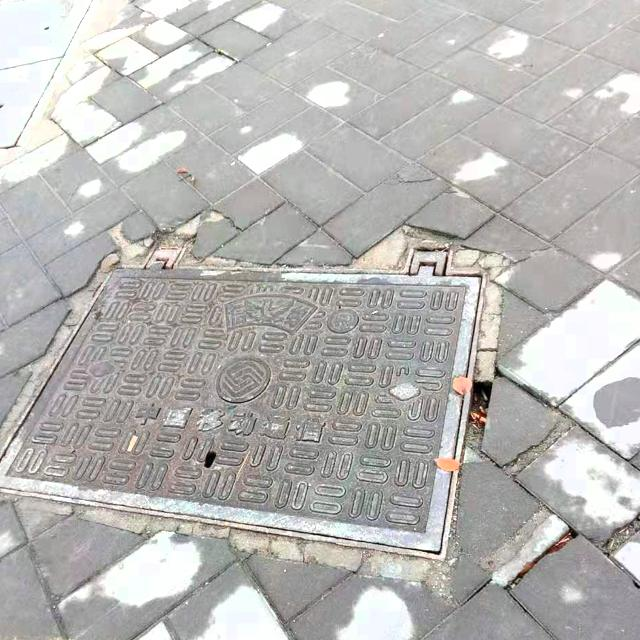good: (0, 252, 484, 558), (0, 0, 102, 161)
